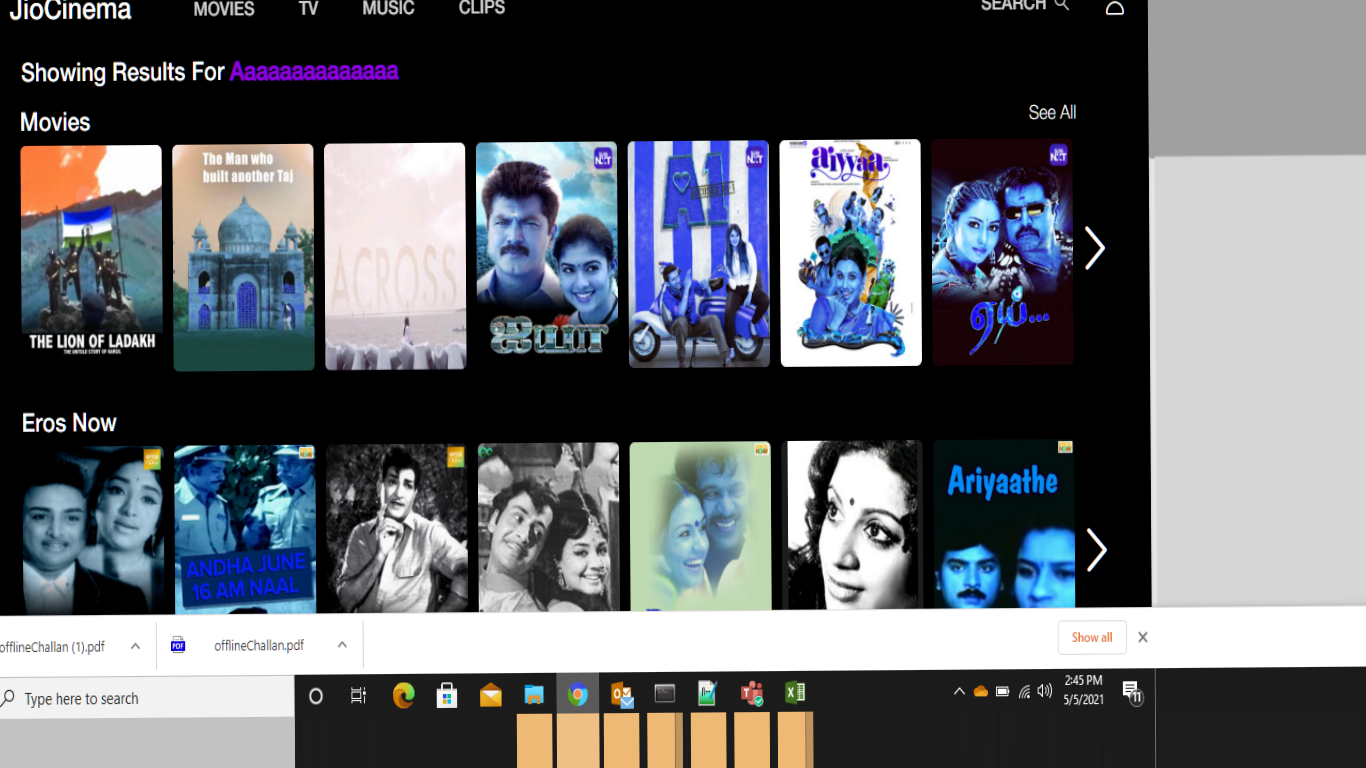noresultsfound: (20, 51, 403, 98)
profileicon: (1093, 1, 1140, 33)
searchtextbox: (964, 1, 1078, 26)
